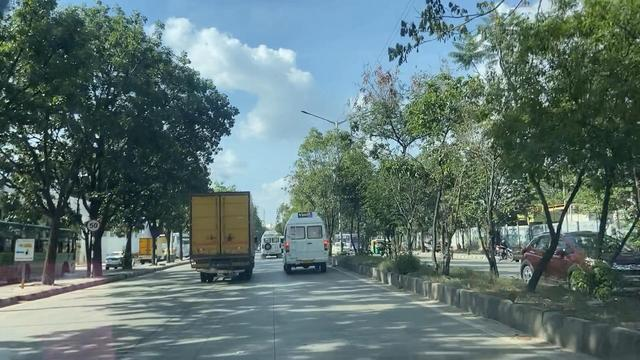HMV: (186, 193, 251, 282), (280, 212, 327, 270)
